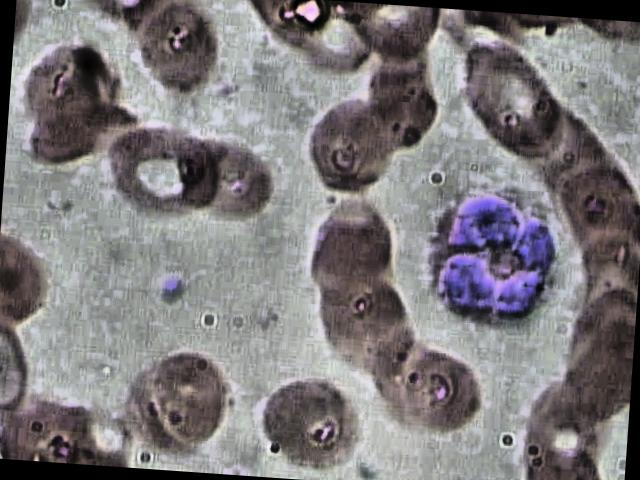Platelets: (140, 270, 197, 308)
RBC: (446, 32, 584, 163), (285, 84, 410, 204), (303, 264, 431, 379), (367, 324, 495, 439), (247, 361, 375, 476), (114, 343, 242, 458), (288, 192, 416, 306), (514, 84, 632, 207), (96, 122, 224, 220), (9, 36, 136, 134), (20, 89, 144, 183), (552, 144, 640, 273), (123, 0, 235, 100), (555, 211, 640, 340), (178, 133, 283, 225), (519, 370, 607, 479), (552, 327, 634, 434), (354, 51, 441, 150), (556, 281, 636, 388), (286, 0, 381, 77), (354, 3, 449, 59), (519, 438, 615, 480)
WBC: (411, 186, 568, 332)
